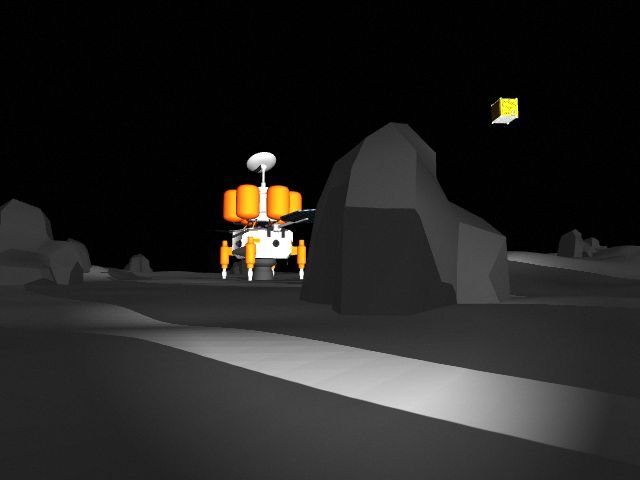homebase: (196, 149, 329, 284)
